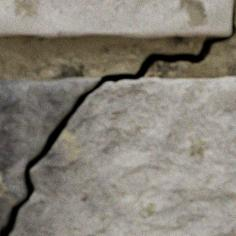brick: (0, 0, 231, 38)
broken_brick: (9, 78, 235, 235), (0, 78, 100, 230)
crack: (0, 0, 235, 235)
